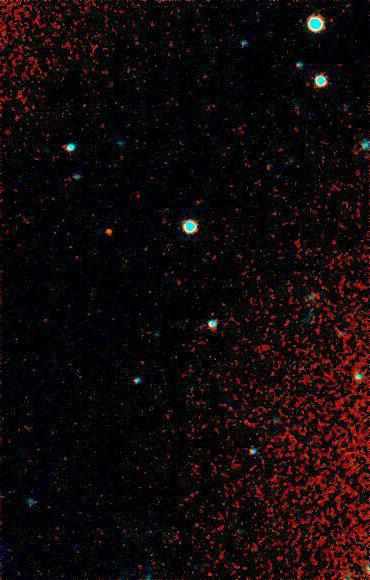star: (96, 216, 126, 246)
